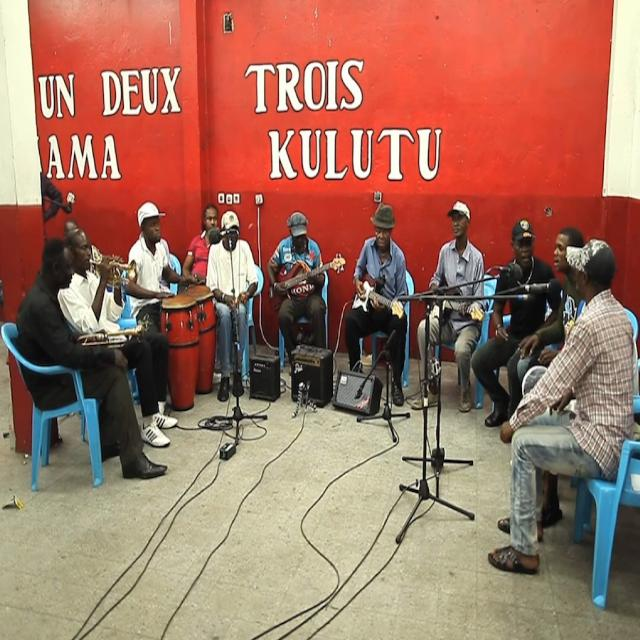body: (482, 236, 638, 578), (13, 234, 170, 486), (53, 224, 180, 452), (468, 215, 565, 427), (405, 197, 487, 419), (506, 227, 588, 420), (123, 199, 199, 406), (340, 199, 410, 411), (203, 208, 260, 404), (266, 209, 327, 378), (182, 204, 218, 284), (37, 168, 63, 223), (62, 217, 78, 240)
